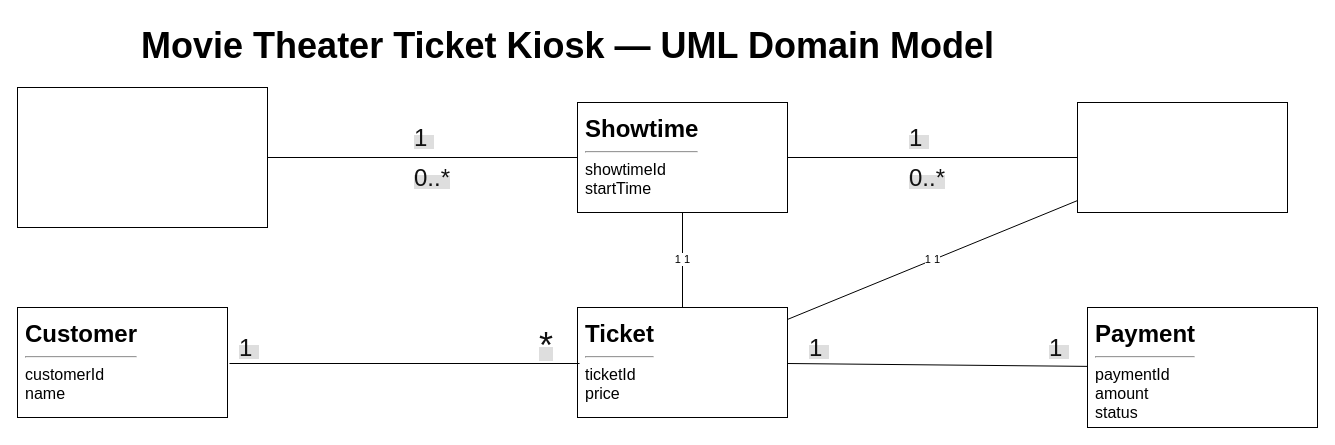
Image size: 1335x445. Some labels were removed from this diagram. The shapes that lost their labels are listed below. From the top down, each one's box as (x1, y1, x2, y2) in pixels, then its label:
(16, 86, 268, 228): Movie movieId title
(1076, 102, 1288, 212): Seat seatNumber status
